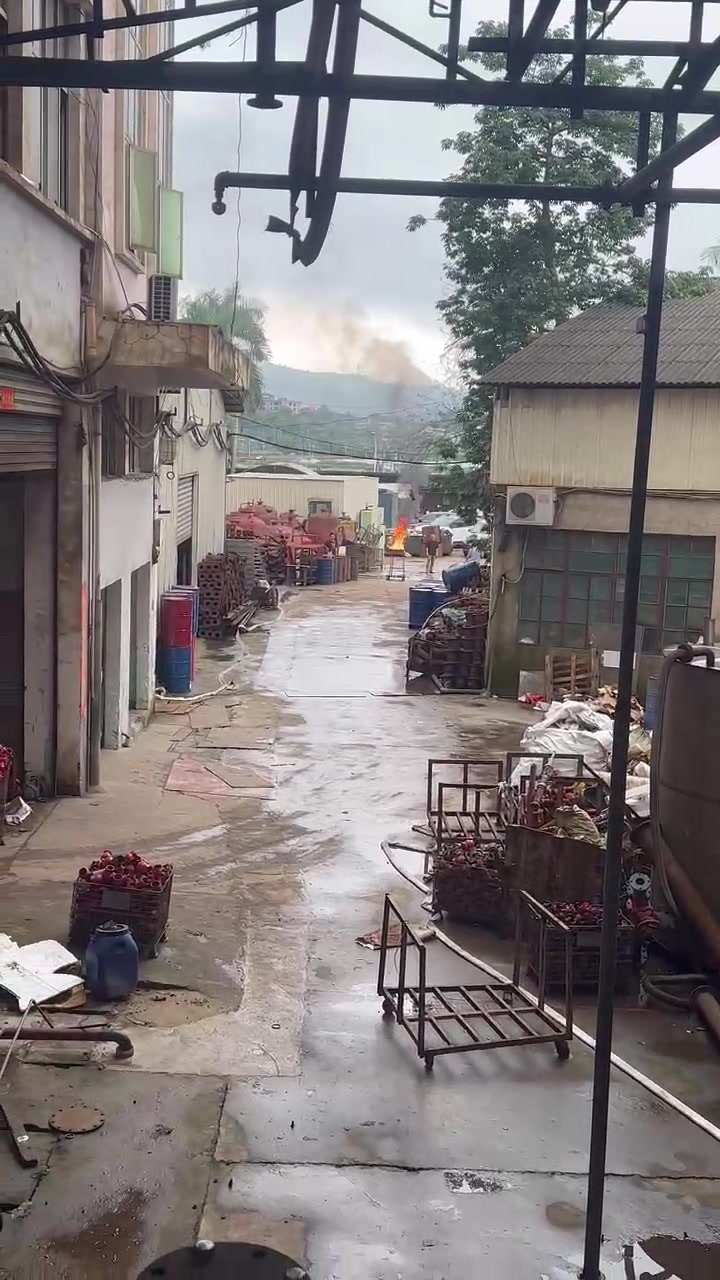fire: (389, 519, 405, 550)
